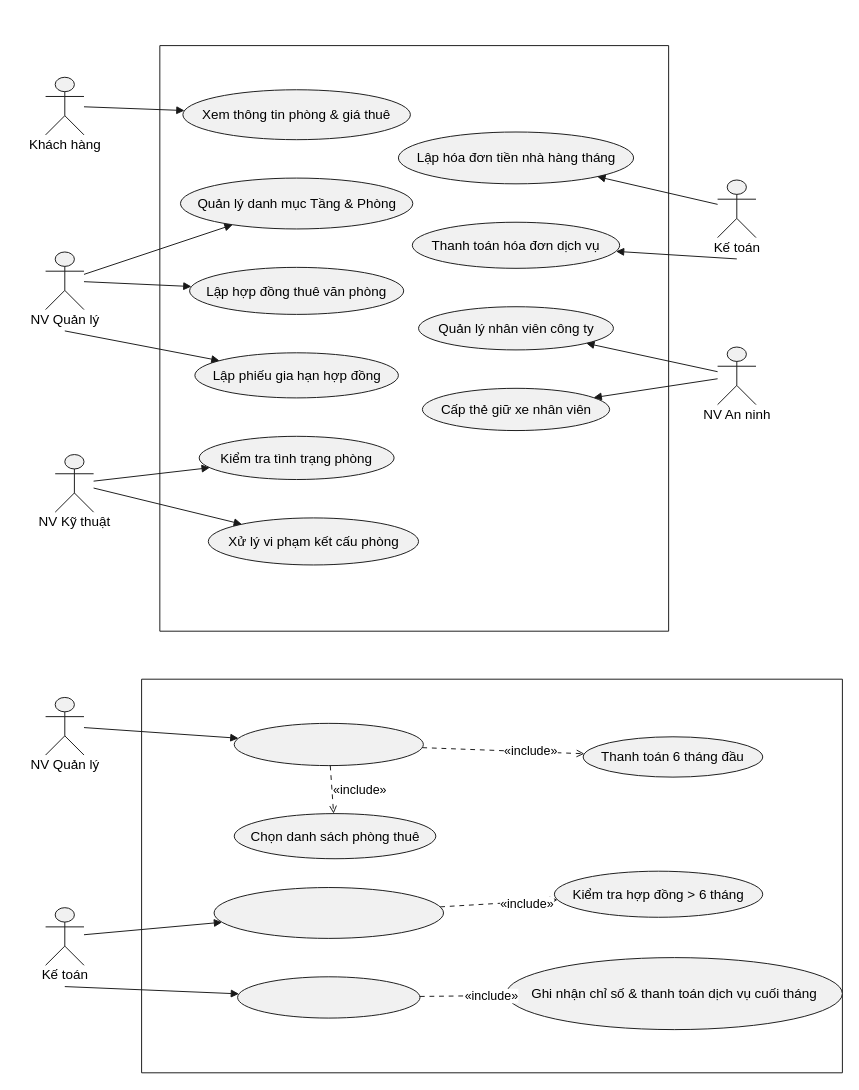
Some shapes in this 859 by 1090 pixel diagram are drawn without their labels. Here are the shapes that lost their labels. From the top down, the centre of each, then its label:
point 328,744: Lập hợp đồng thuê phòng
point 328,912: Thanh toán tiền nhà hàng tháng
point 328,997: Thanh toán phí dịch vụ
